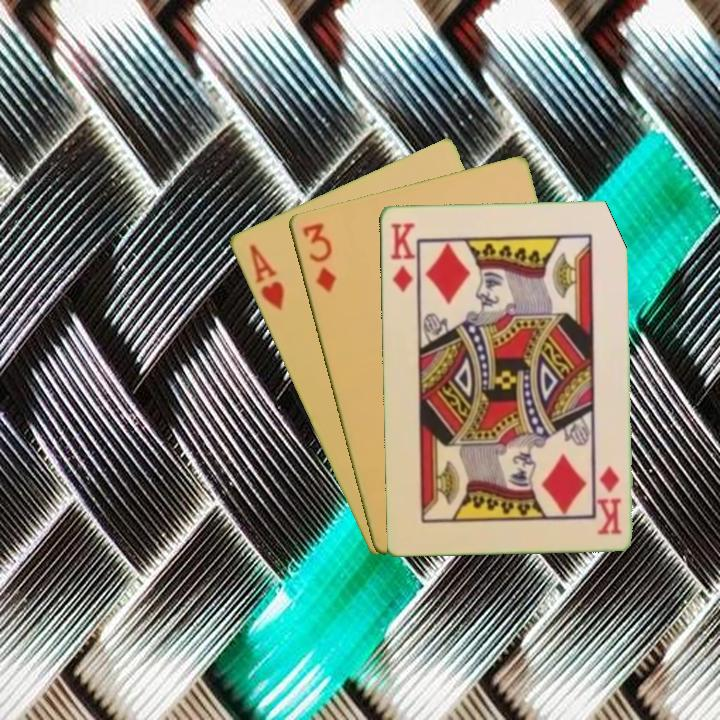3d: (298, 219, 339, 295)
Ah: (245, 240, 287, 313)
Kd: (387, 218, 418, 295), (594, 462, 624, 537)
